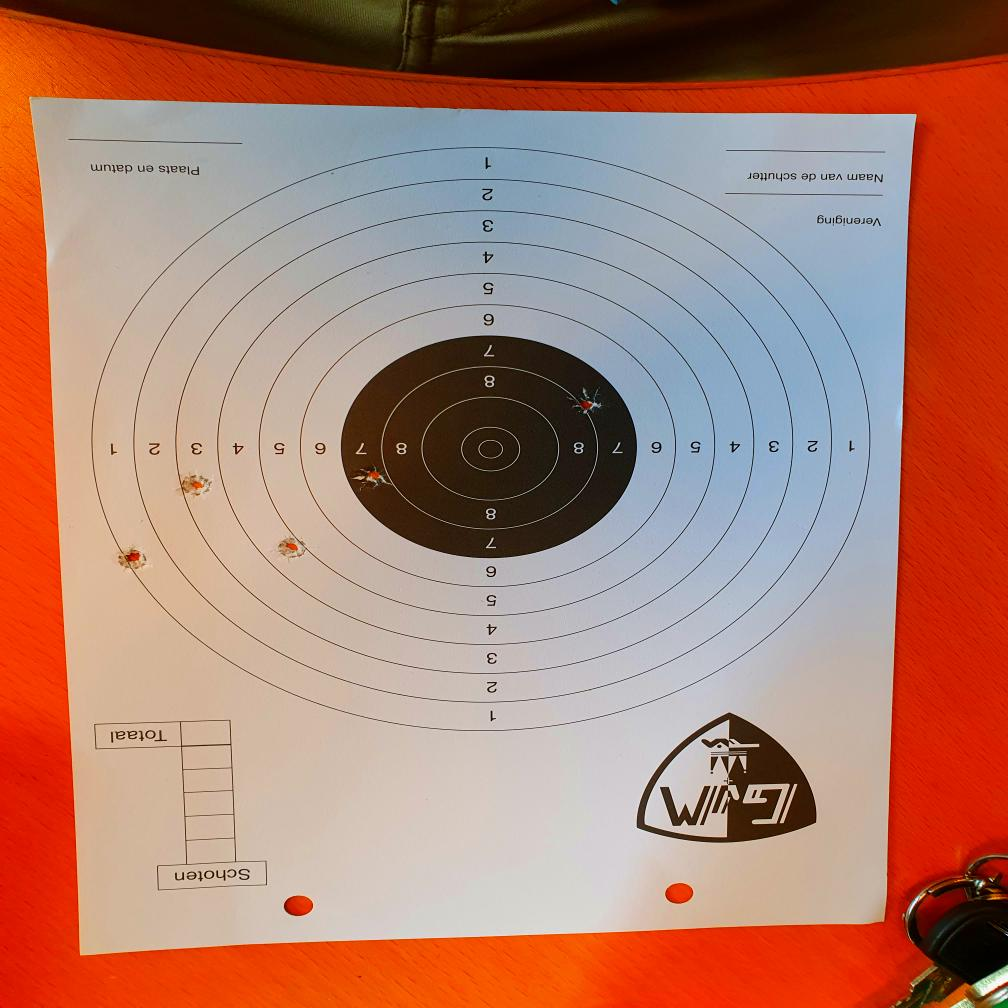1: (115, 544, 154, 574)
3: (171, 470, 213, 499)
5: (273, 534, 313, 562)
7: (346, 458, 391, 496)
8: (563, 384, 608, 419)
Target: (96, 144, 867, 735)
black_contour: (340, 336, 637, 558)
